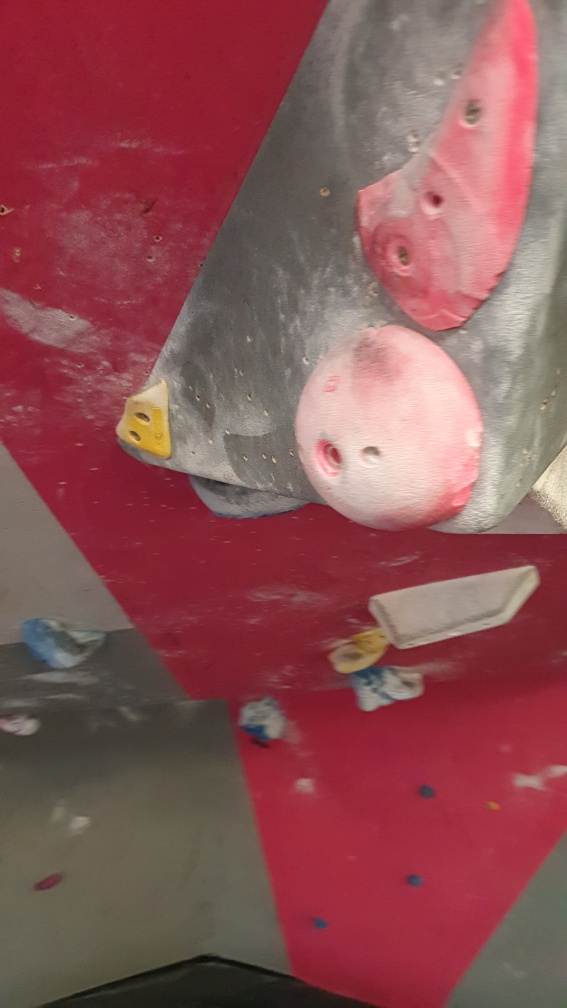Crimp: (117, 380, 176, 465)
Jug: (20, 615, 117, 673)
Sloper: (296, 325, 488, 536)
